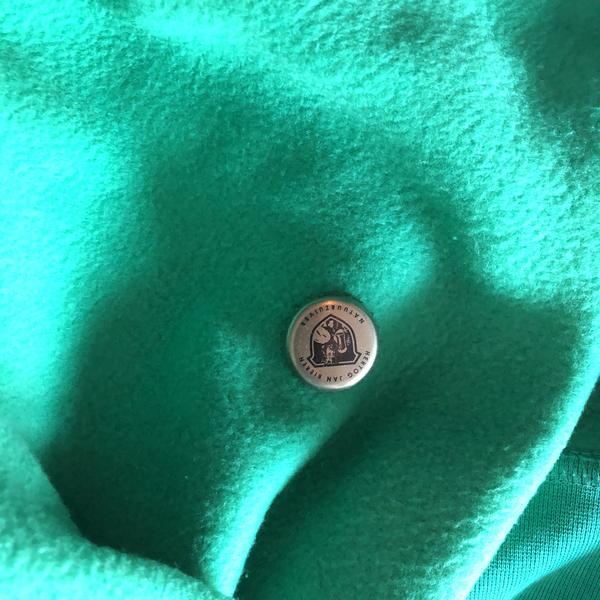hertogjan: (282, 291, 381, 394)
